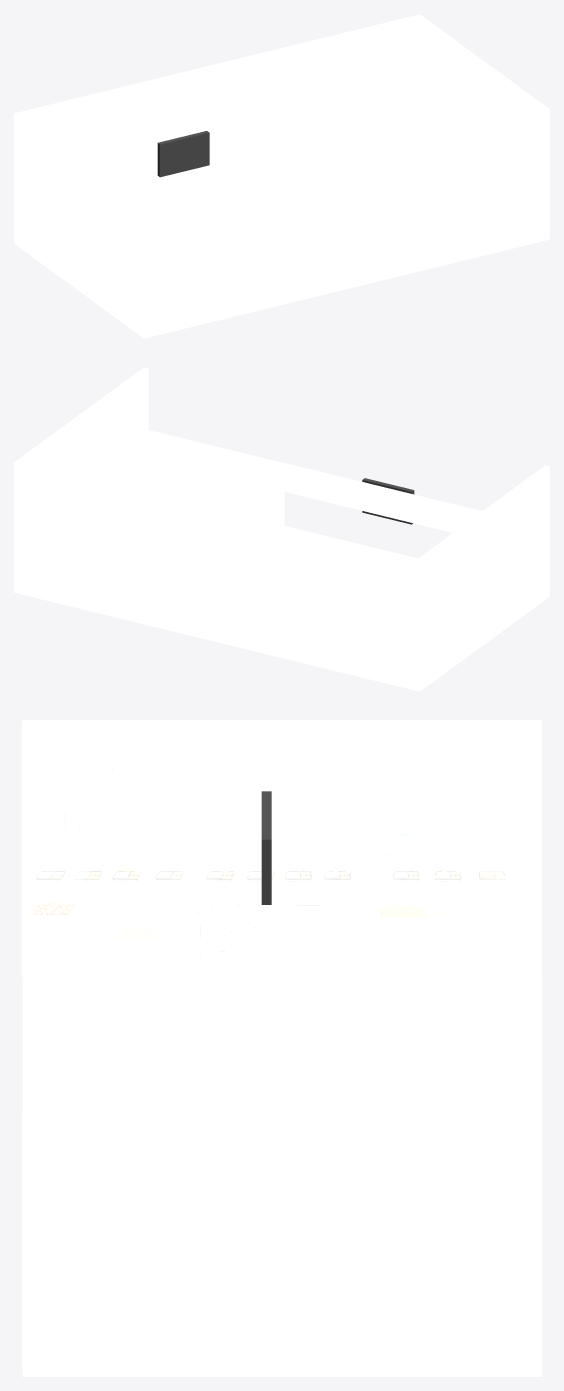
The model's file is FOOMA2026booth.glb.
3 views of the same model, one above another, from view 1: azimuth 30°, elevation 25°; view 2: azimuth 150°, elevation 25°; view 3: azimuth 270°, elevation 25° (orthographic). The views are drawn at different scales.
Visible parts, largest first — view 1: ゆかかべ, 壁デザイン, 台, テレビ, テーブル; view 2: ゆかかべ; view 3: ゆかかべ, 壁デザイン, テレビ.
Part boxes in pixels (left/top/right/bottom): ゆかかべ: left=14, top=14, right=549, bottom=338; 壁デザイン: left=22, top=65, right=482, bottom=238; 台: left=420, top=168, right=486, bottom=238; テレビ: left=157, top=131, right=209, bottom=177; テーブル: left=173, top=181, right=203, bottom=240; ゆかかべ: left=14, top=367, right=549, bottom=691; ゆかかべ: left=22, top=720, right=542, bottom=1376; 壁デザイン: left=21, top=725, right=530, bottom=977; テレビ: left=261, top=791, right=271, bottom=904.
Bounding box in the file's own units: 9.11 × 2.82 × 5.06.
Materials: 3 (1 with a texture image).
